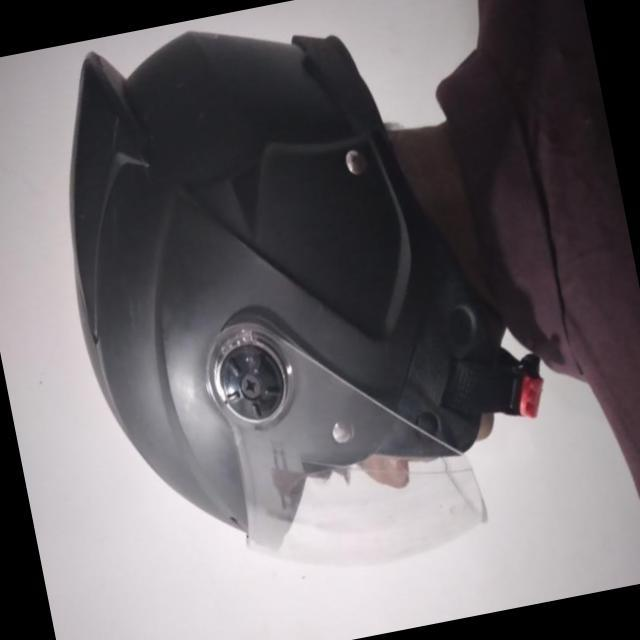WITH_HELMET: (27, 0, 543, 599)
